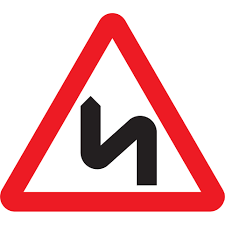Double_bend_left: (1, 8, 225, 213)
